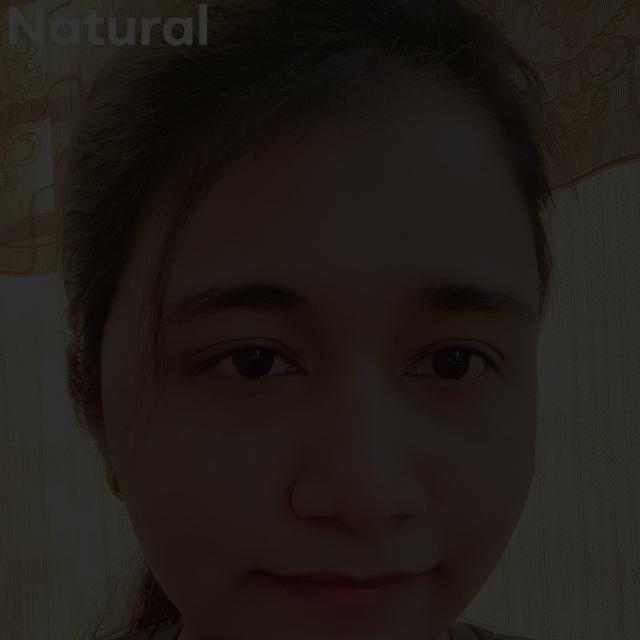Natural: (83, 116, 553, 640)
